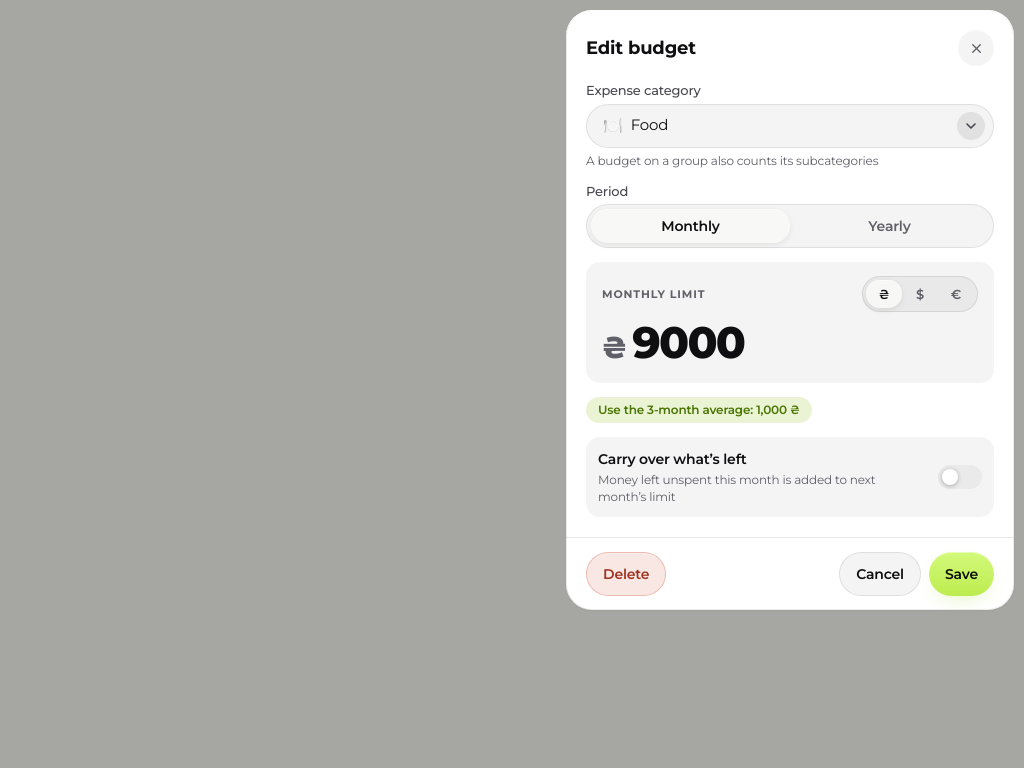
Test case: BudgetSheet › fills in the limit the category's spending suggests
This screenshot has width=1024, height=768.
What coordinates should you click on to do the following:
click the button "Use the 3-month average: 1,000 ₴"
I would click on:
 (699, 410)
Its box is [586,397,812,423].
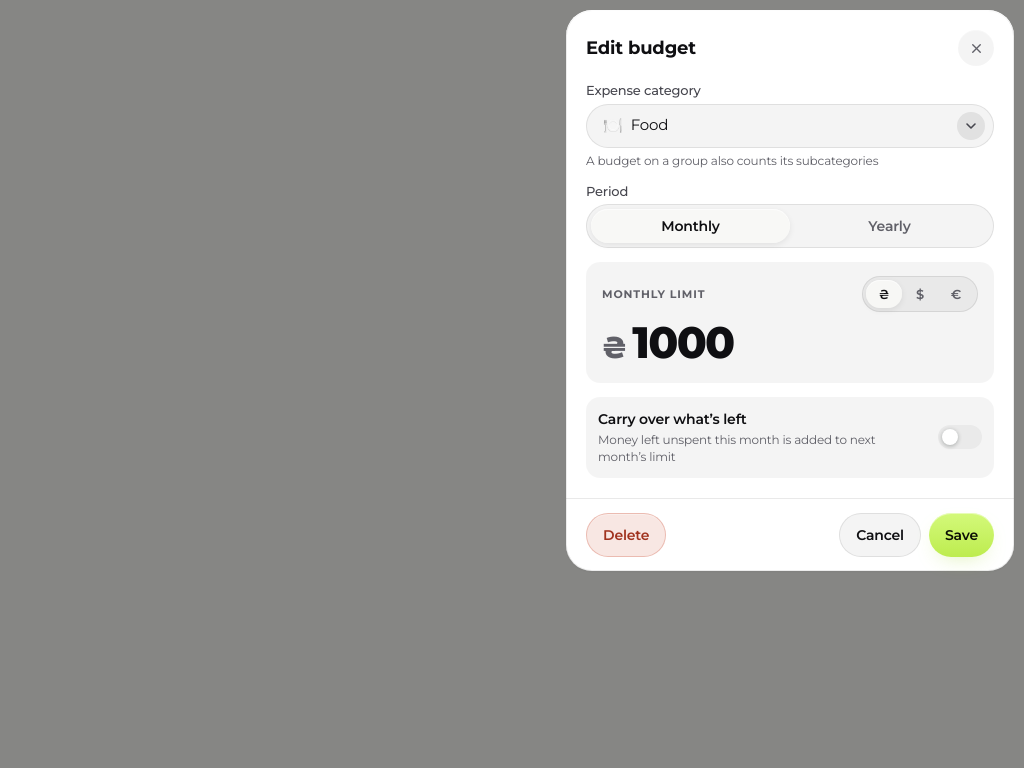
Expected: the field showing "1000" is shown, [632,318,978,367]
